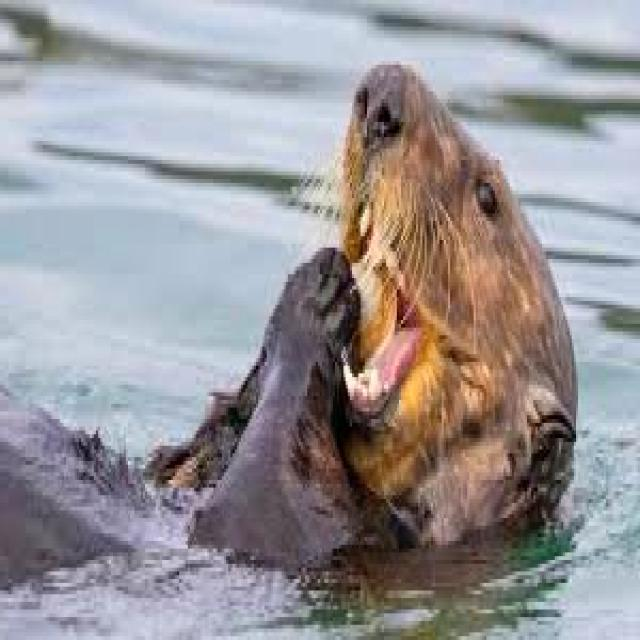otter: (2, 65, 578, 579)
